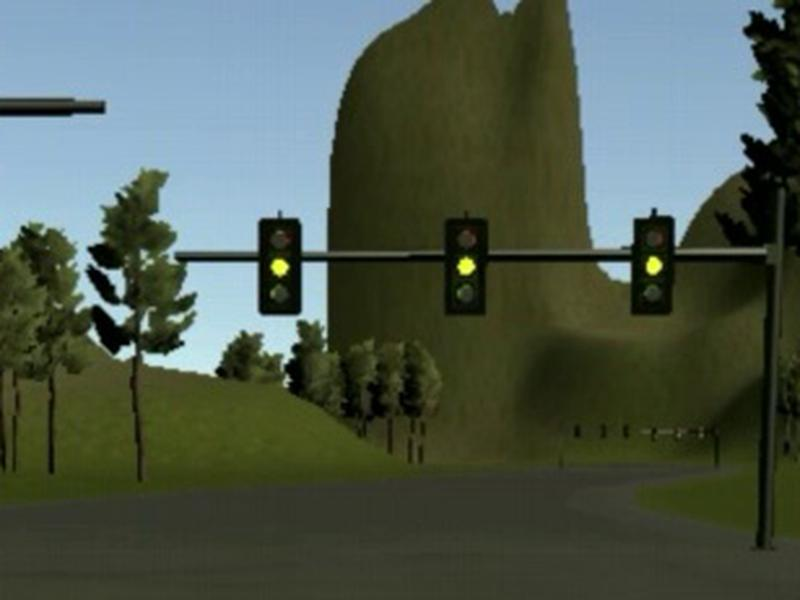Yellow: (256, 218, 301, 315), (630, 216, 674, 315), (444, 218, 487, 314)
